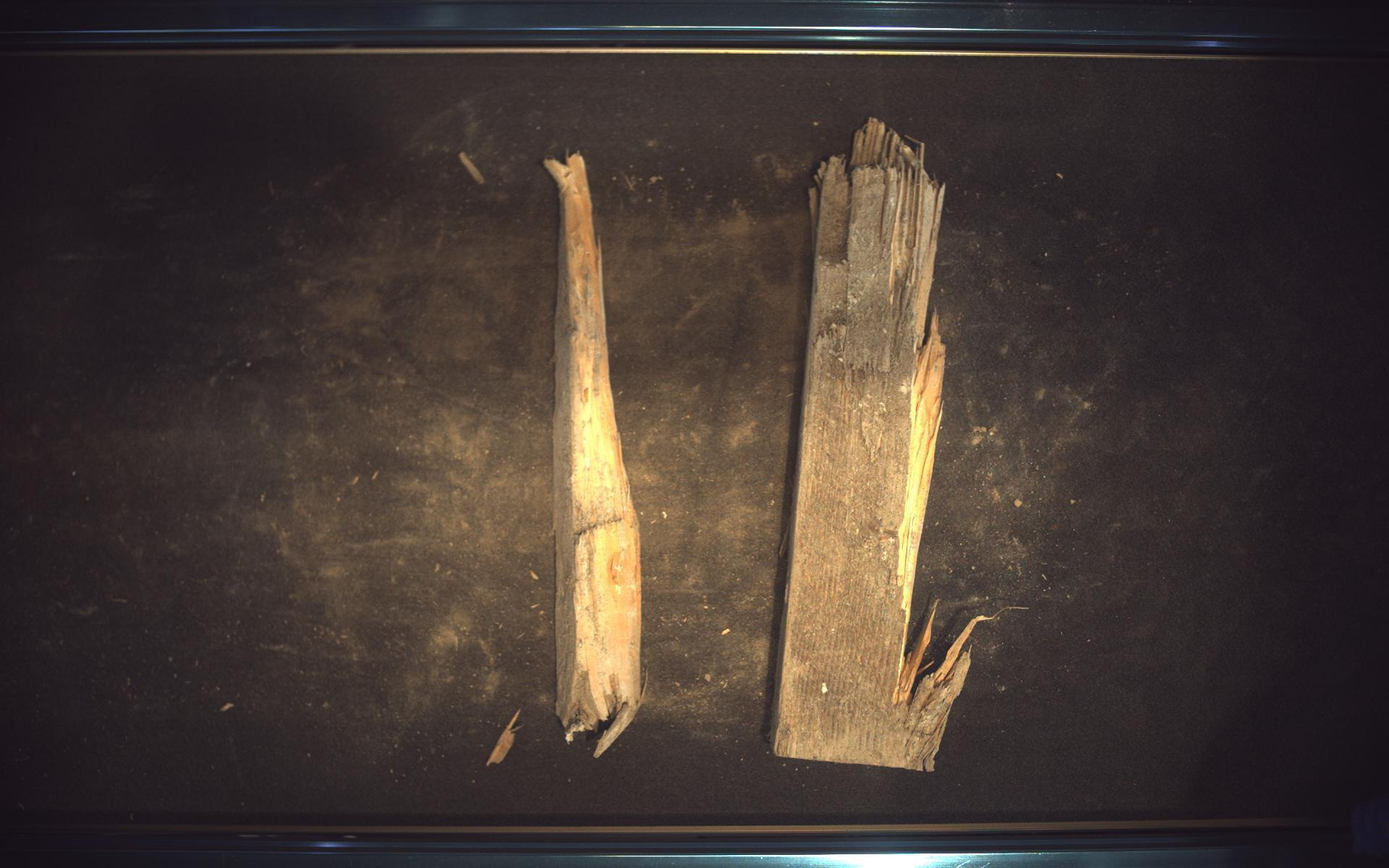wood: (775, 118, 990, 773), (545, 153, 642, 758)
